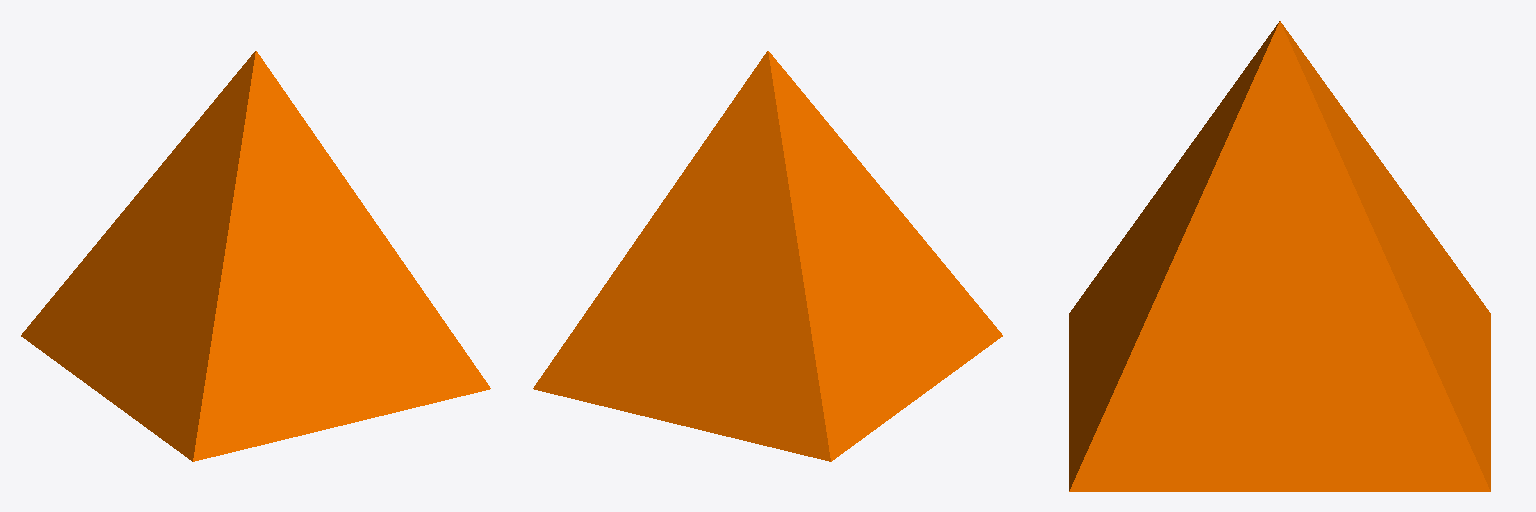
URDF robot description (pyramid):
<?xml version="1.0" ?>
<robot name="pyramid">
  <link name="pyramid_link">

    <visual>
    <origin xyz="0 0 0" rpy="0 0 0"/>
      <geometry>
        <mesh filename="pyramid.obj" scale="1 1 1"/>
      </geometry>
            <material name="orange">
        <color rgba="1 0.5 0 1"/>
      </material>
    </visual>
    <collision>
     <origin xyz="0 0 0" rpy="0 0 0"/>
      <geometry>
        <mesh filename="pyramid.obj" scale="1 1 1"/>
      </geometry>
    </collision>
    <inertial>
           <origin xyz="0.5 0.5 0" rpy="0 0 0"/>
  <mass value="1.0"/>
  <inertia ixx="0.1" iyy="0.1" izz="0.1"
           ixy="0.0" ixz="0.0" iyz="0.0"/>
</inertial>
</link>
</robot>

--- Render facts (derived) ---
3 views of the same robot in one strip: view 1: azimuth 30°, elevation 25°; view 2: azimuth 150°, elevation 25°; view 3: azimuth 270°, elevation 25° (orthographic).
Model pyramid with 1 links and 0 joints (none), rooted at pyramid_link, posed every joint at zero.
Visible links, largest first — view 1: pyramid_link; view 2: pyramid_link; view 3: pyramid_link.
Boxes of the visible links, box(x1,y1,x2,y2) form: pyramid_link: box(21, 51, 490, 461); pyramid_link: box(533, 51, 1002, 461); pyramid_link: box(1069, 21, 1490, 491).
Bounding box of the posed robot: 1 × 1 × 1 m (x, y, z).
1 mesh visuals loaded from 1 distinct referenced files (1 OBJ).